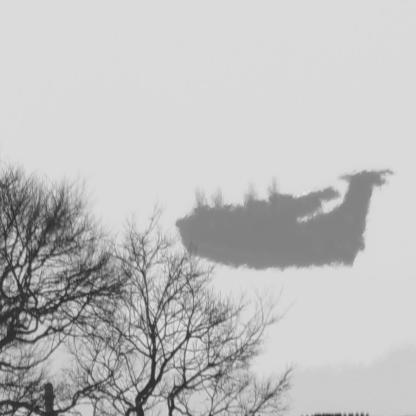US2: (176, 168, 396, 273)
